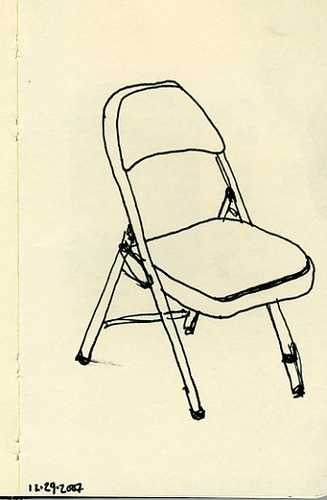obstacle: (75, 80, 314, 419)
